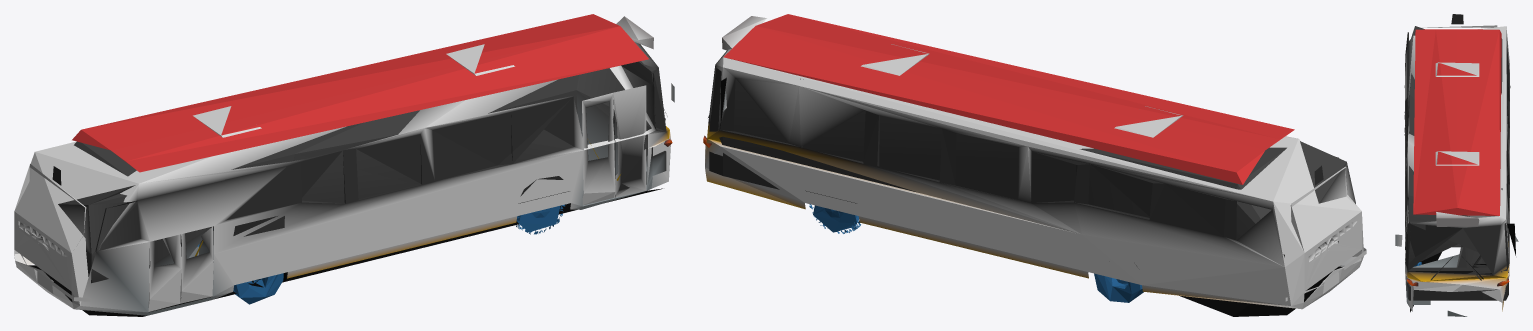
The model's file is town-bus.lod0.glb.
The picture shows the model from 3 angles, left to right: view 1: azimuth 30°, elevation 25°; view 2: azimuth 150°, elevation 25°; view 3: azimuth 270°, elevation 25°; orthographic projection. The views are drawn at different scales.
Parts seen in each view (by area): view 1: Object_2; view 2: Object_2; view 3: Object_2.
Boxes of the visible parts, bbox=[...] form: Object_2: bbox=[14, 14, 674, 316]; Object_2: bbox=[703, 14, 1366, 316]; Object_2: bbox=[1395, 14, 1518, 316].
Size of the model in its own units: 11.5 by 2.84 by 2.8.
